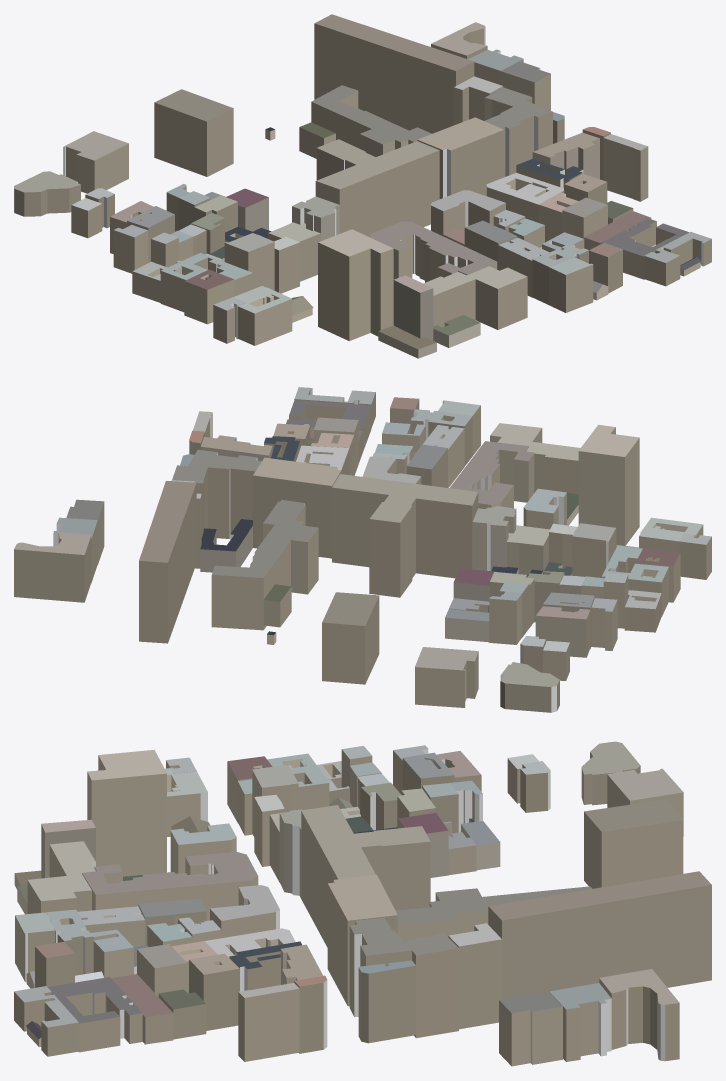
3 views of the same model, one above another, from view 1: azimuth 30°, elevation 25°; view 2: azimuth 150°, elevation 25°; view 3: azimuth 270°, elevation 25° (orthographic). The views are drawn at different scales.
Visible parts, largest first — view 1: tuile; view 2: tuile; view 3: tuile.
Boxes of the visible parts, left/top/right/bottom form: tuile: left=14, top=14, right=711, bottom=358; tuile: left=14, top=387, right=711, bottom=712; tuile: left=14, top=741, right=711, bottom=1066.
Bounding box in the file's own units: 273 × 49.33 × 267.
